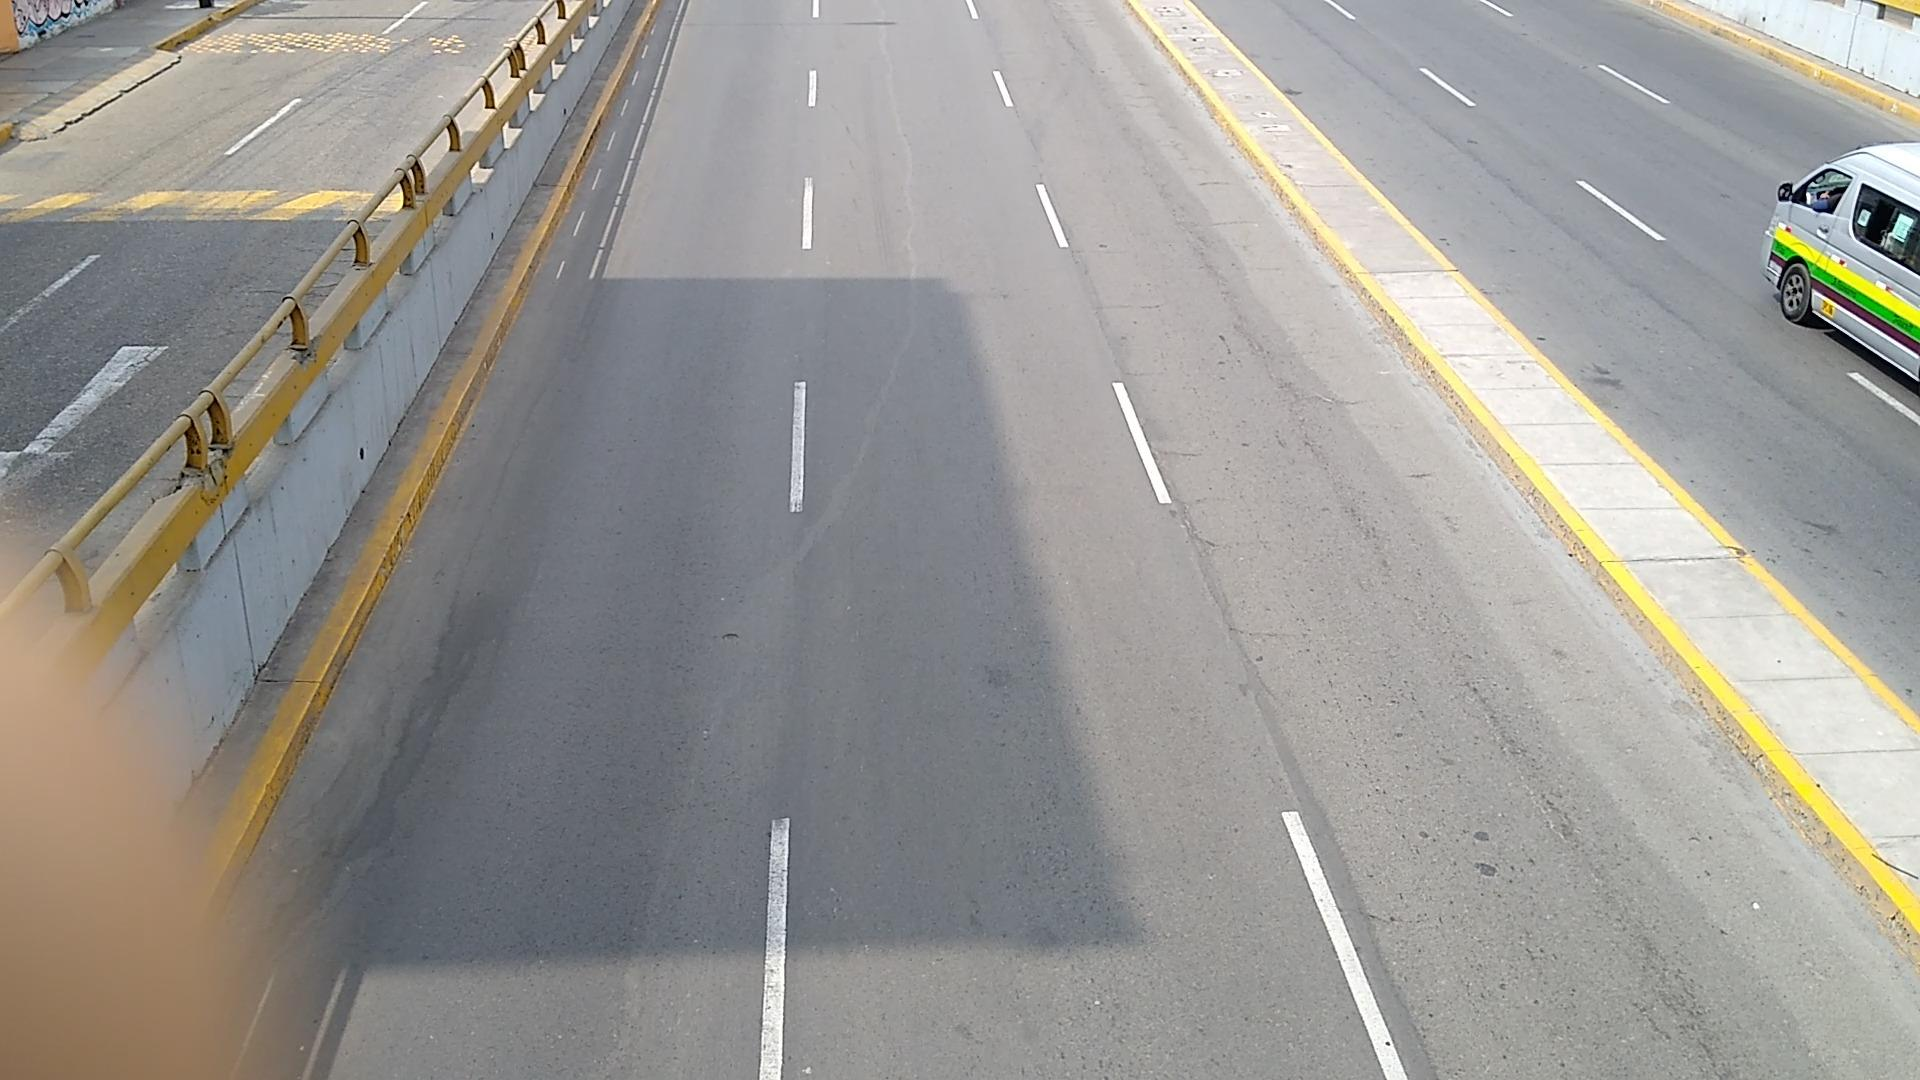minivan: (1763, 142, 1920, 378)
